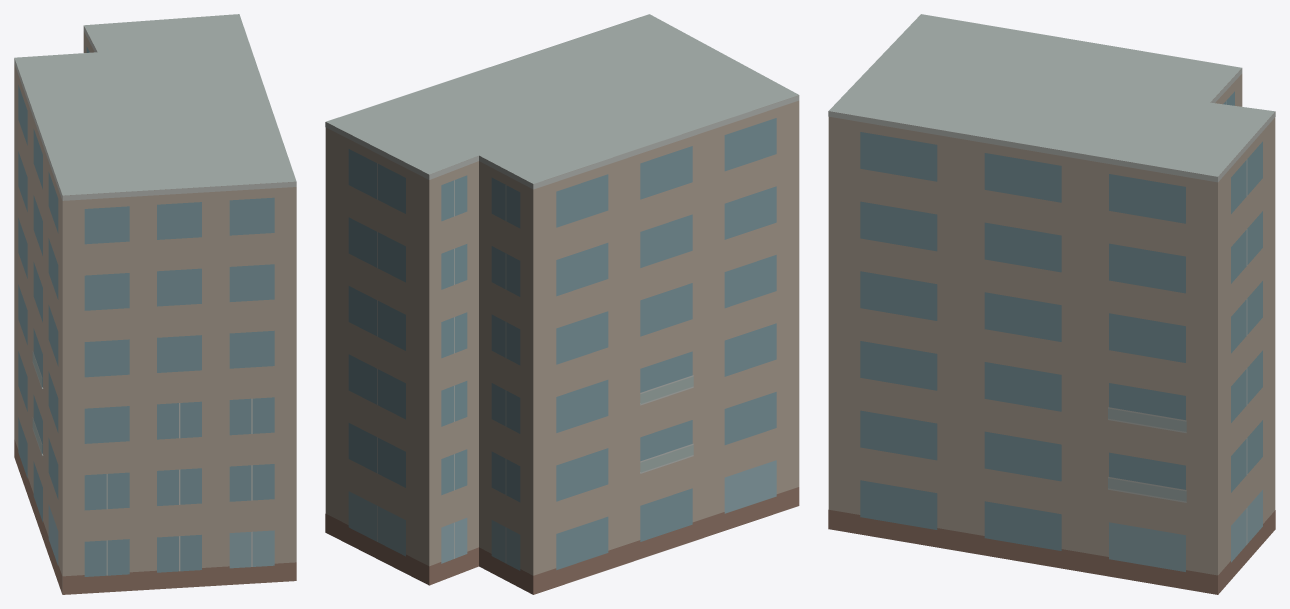
The model's file is survey-upis-32892243.glb.
3 views of the same model, side by side, from view 1: azimuth 30°, elevation 25°; view 2: azimuth 150°, elevation 25°; view 3: azimuth 270°, elevation 25° (orthographic). The views are drawn at different scales.
Parts seen in each view (by area): view 1: survey-upis-32892243.tmp; view 2: survey-upis-32892243.tmp; view 3: survey-upis-32892243.tmp.
Part boxes in pixels (x1=…): survey-upis-32892243.tmp: x1=14, y1=14, x2=296, y2=594; survey-upis-32892243.tmp: x1=325, y1=14, x2=799, y2=594; survey-upis-32892243.tmp: x1=828, y1=14, x2=1275, y2=594.
Size of the model in its own units: 15.3 by 18.3 by 17.74.
